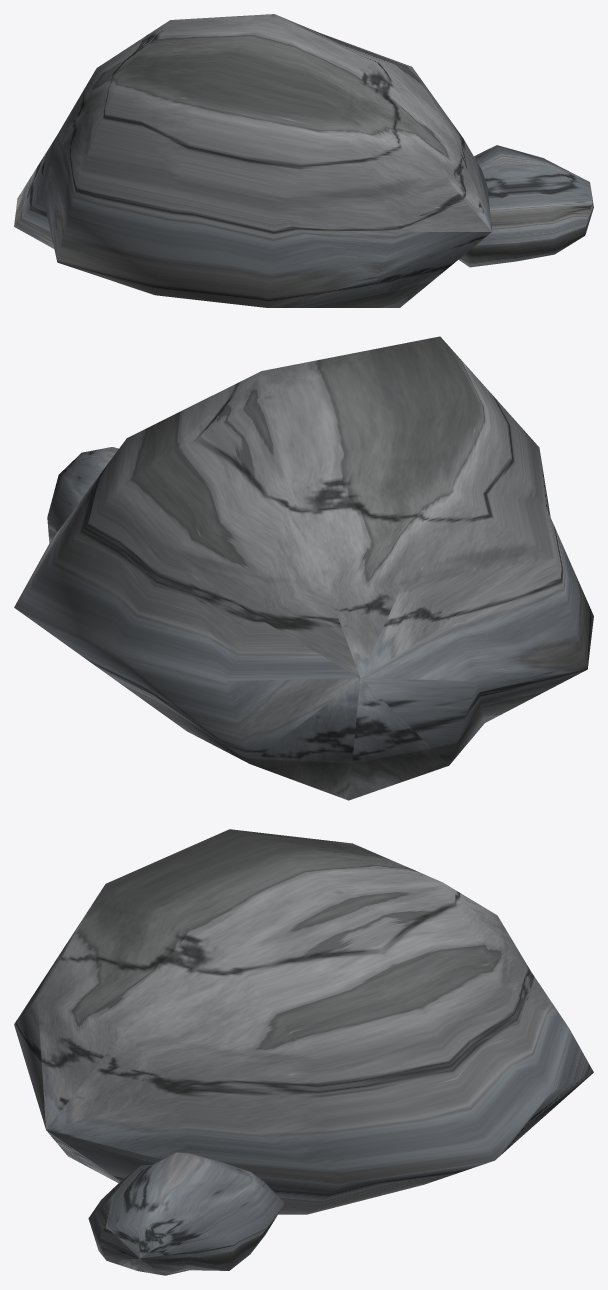
File: rock_stone_l1.gltf
The picture shows the model from 3 angles, top to bottom: view 1: azimuth 30°, elevation 25°; view 2: azimuth 150°, elevation 25°; view 3: azimuth 270°, elevation 25°; orthographic projection. The views are drawn at different scales.
Parts seen in each view (by area): view 1: rock_stone_l1; view 2: rock_stone_l1; view 3: rock_stone_l1.
Boxes of the visible parts, <box> form: rock_stone_l1: <box>14,14,593,307</box>; rock_stone_l1: <box>14,336,593,800</box>; rock_stone_l1: <box>14,829,593,1275</box>.
Bounding box in the file's own units: 1.24 × 0.5371 × 1.1.
Materials: 1 (1 with a texture image).
